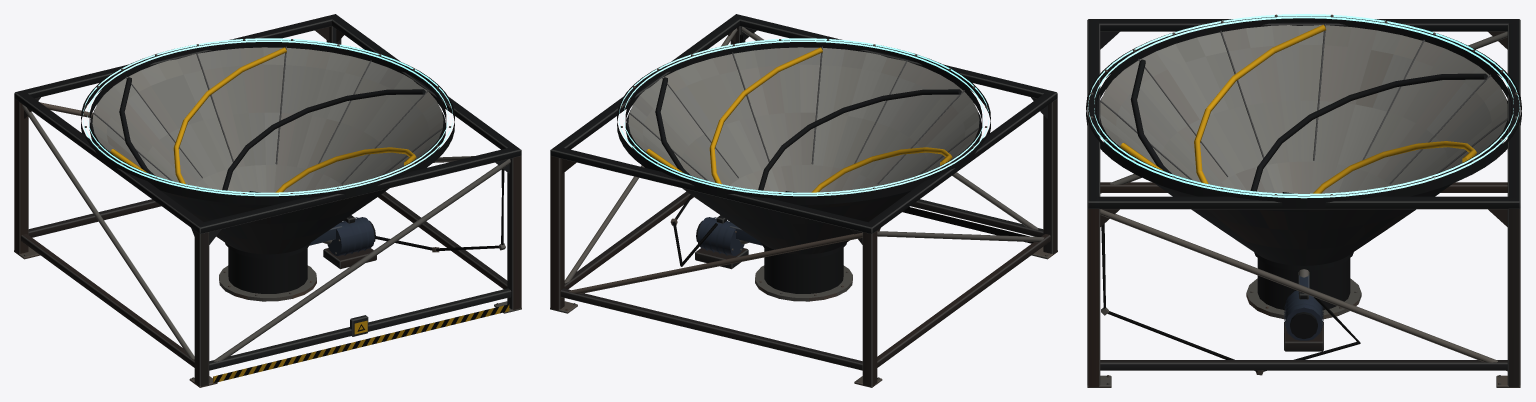
Rendered from concept_vortex_funnel.glb.
The picture shows the model from 3 angles, left to right: view 1: azimuth 30°, elevation 25°; view 2: azimuth 150°, elevation 25°; view 3: azimuth 270°, elevation 25°; orthographic projection. The views are drawn at different scales.
Parts seen in each view (by area): view 1: Frame, Bowl; view 2: Bowl, Frame; view 3: Bowl, Frame.
Boxes of the visible parts, <box> form: Frame: <box>14,14,521,387</box>; Bowl: <box>89,46,445,254</box>; Bowl: <box>625,46,981,254</box>; Frame: <box>550,14,1057,387</box>; Bowl: <box>1100,23,1507,265</box>; Frame: <box>1086,14,1521,387</box>.
Size of the model in its own units: 3.94 by 1.91 by 3.94.
